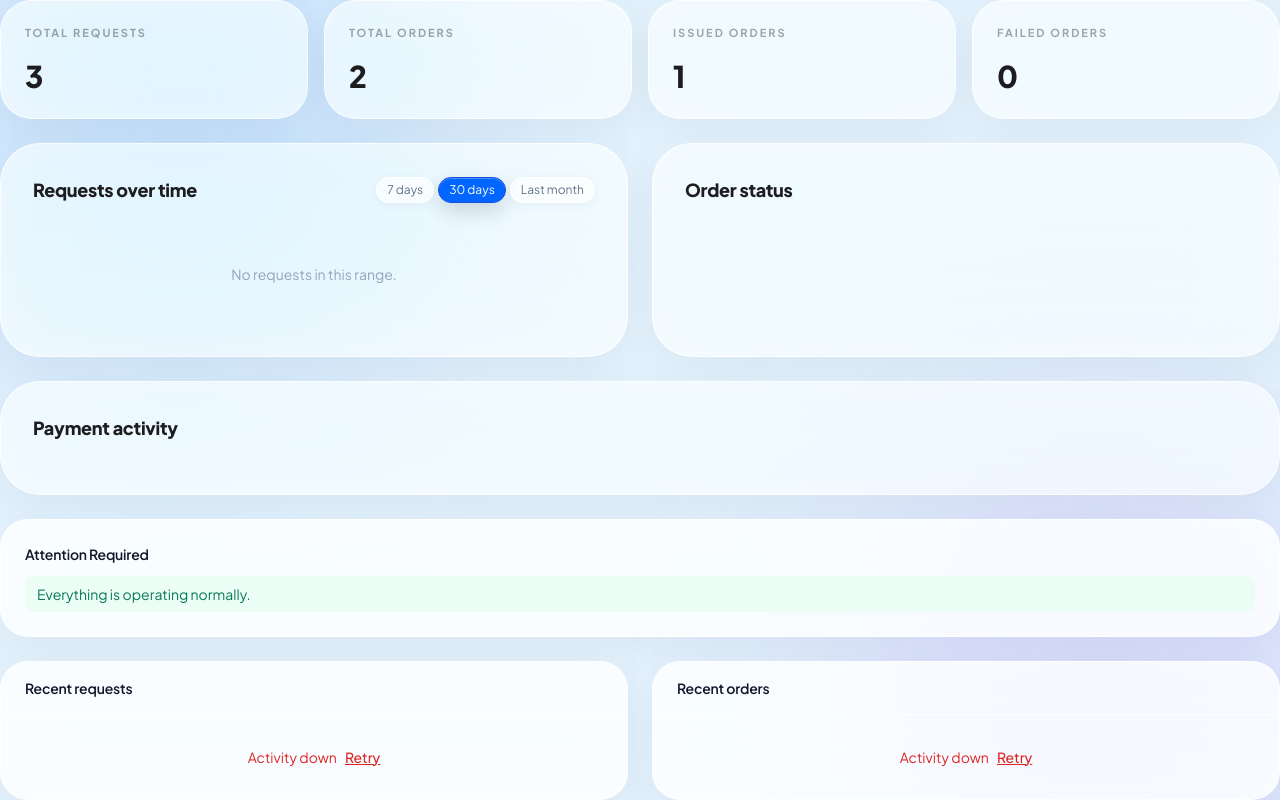
Test: SuperAdminDashboard › a failing panel shows its own error + Retry while the other panels still render
(page scrolled)
Expected: the text "Activity down" below "Recent requests" is shown, [248,748,337,766]
Click the button "Retry" below "Recent requests" at (363, 756), box [345,746,380,766]
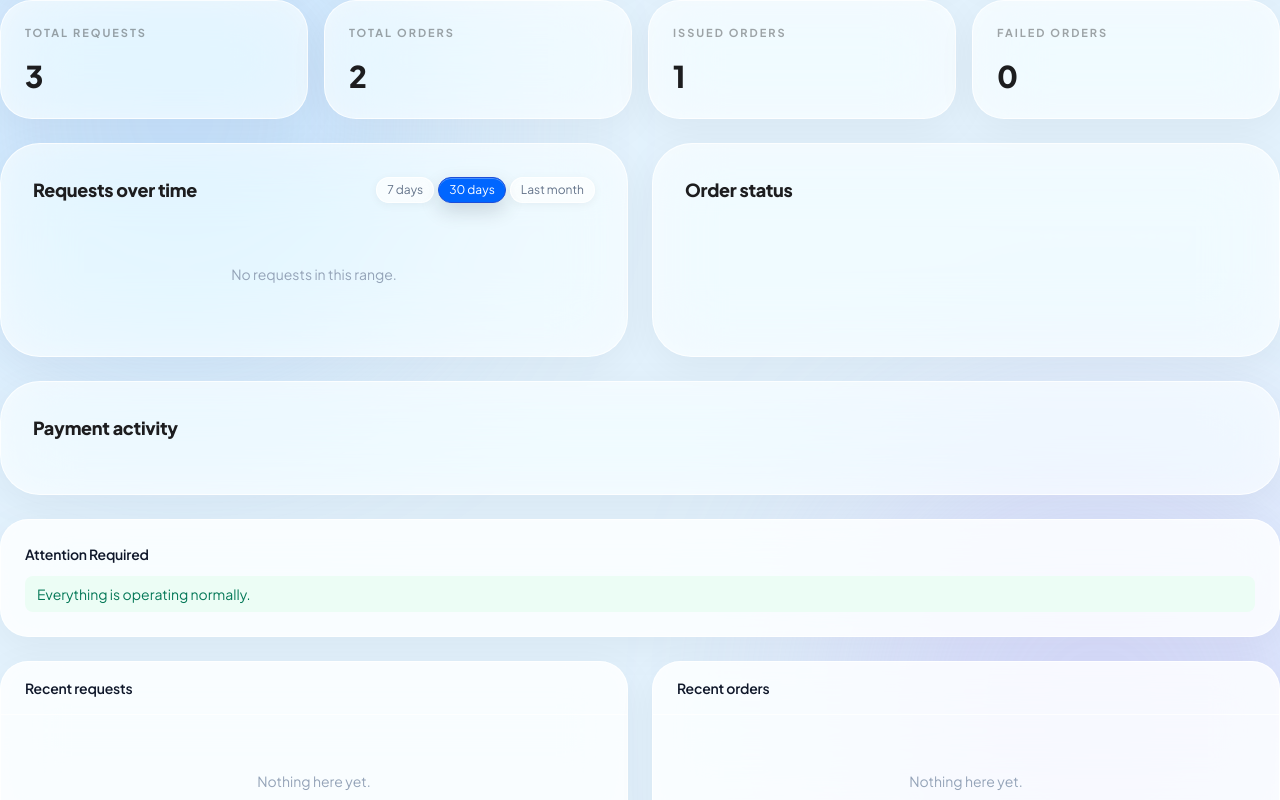
Now the text "Activity down" is gone
